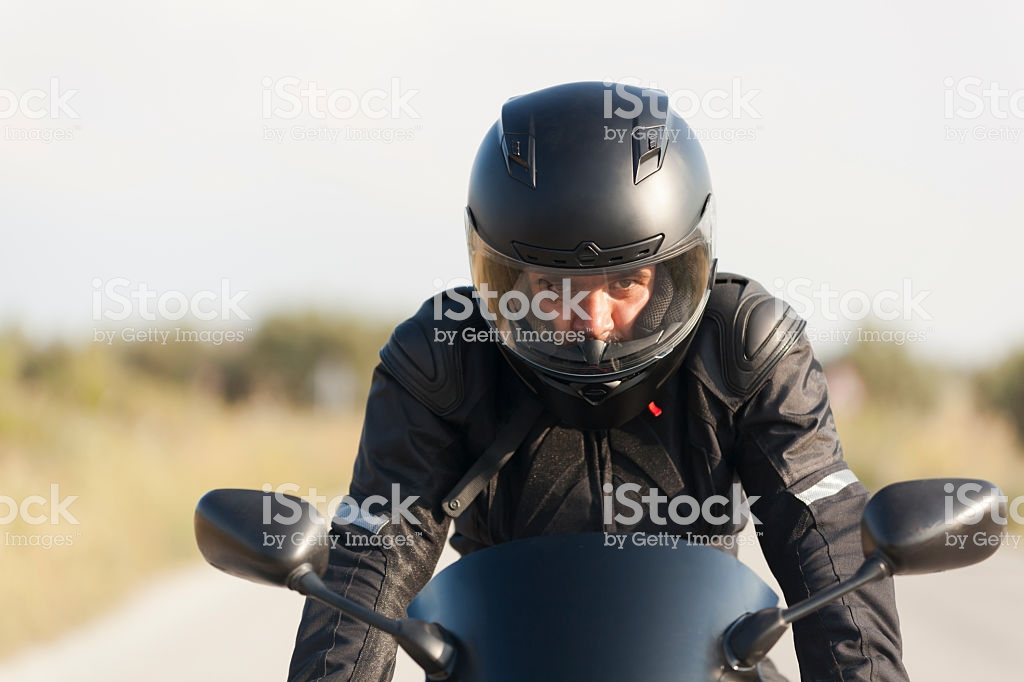helmet: (463, 82, 713, 339)
